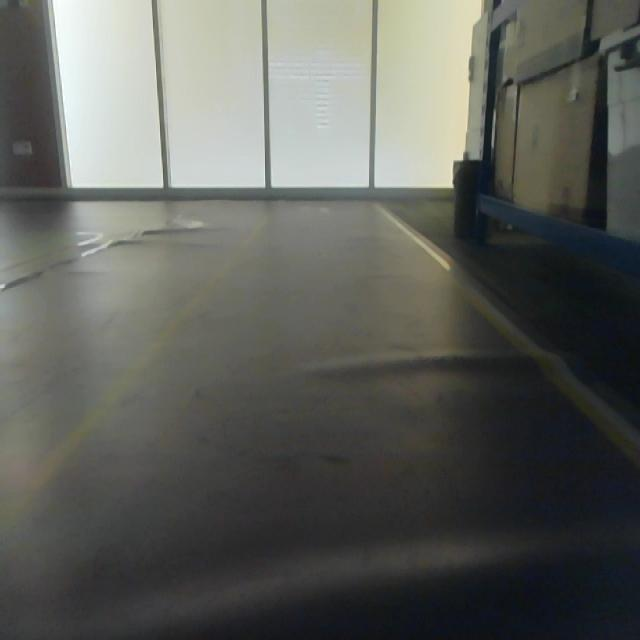left_lane: (0, 215, 264, 539)
right_lane: (379, 205, 640, 470)
